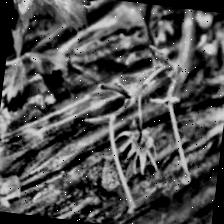Gray Mold: (98, 113, 162, 196)
